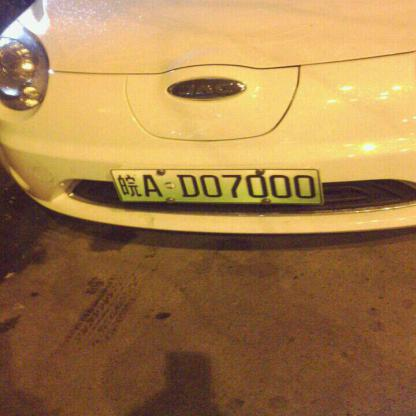lp: (110, 170, 322, 202)
